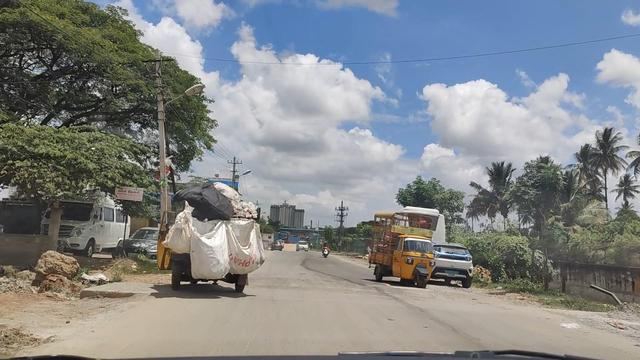HMV: (161, 188, 270, 303), (368, 219, 441, 291)
RoadDamages: (388, 338, 417, 350)
